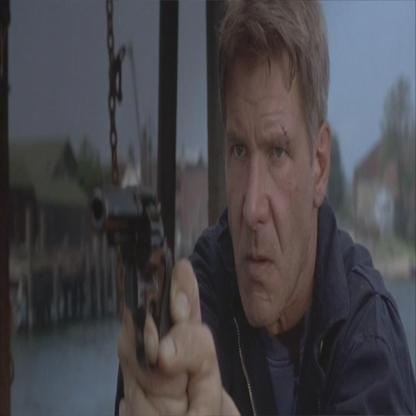gun: (80, 145, 177, 359)
